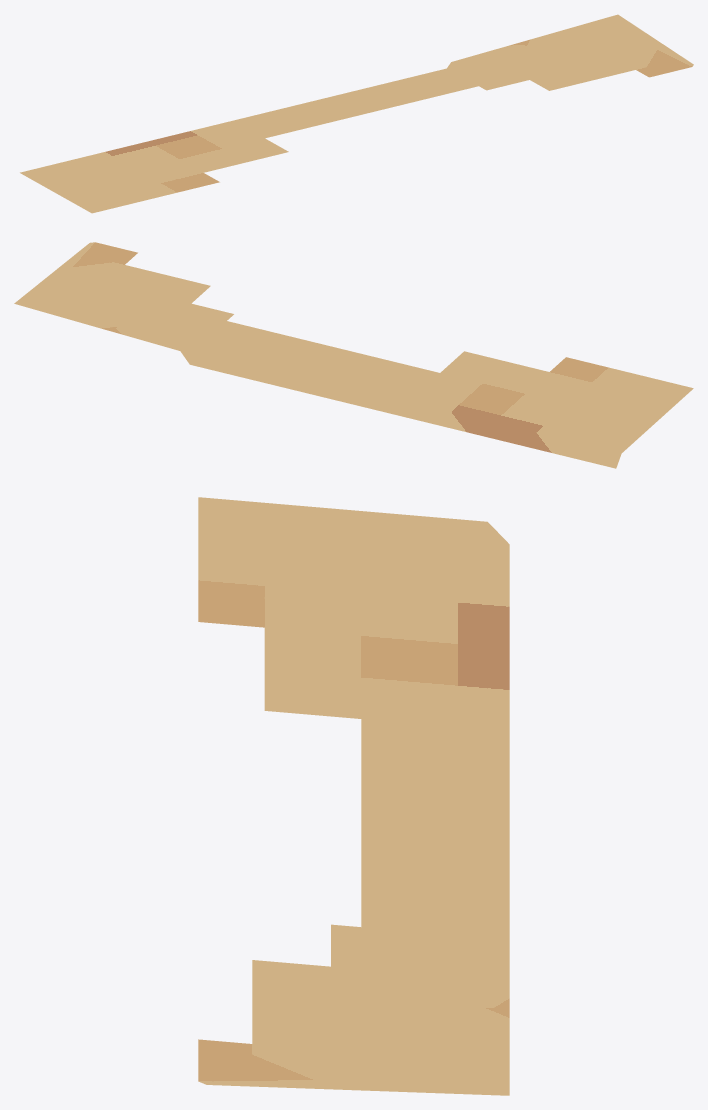
The picture shows the model from 3 angles, top to bottom: view 1: azimuth 30°, elevation 25°; view 2: azimuth 150°, elevation 25°; view 3: azimuth 270°, elevation 25°; orthographic projection. The views are drawn at different scales.
Bounding box in the file's own units: 1 × 0.0373 × 0.2236.
1 material, 1 textured.
